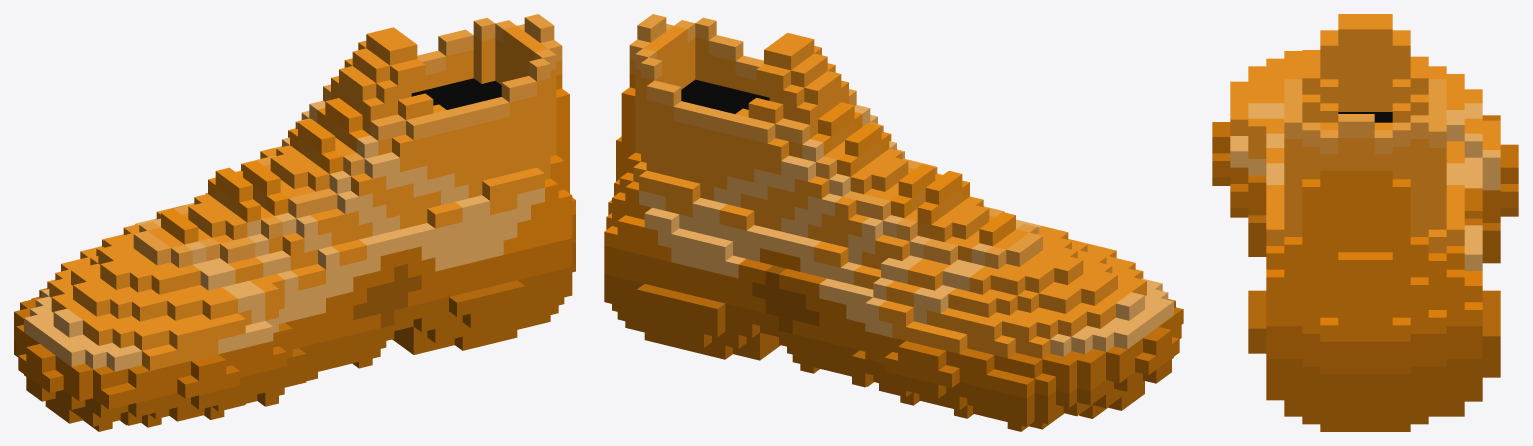
Rendered from Golden Reciever.fbx.
The picture shows the model from 3 angles, left to right: view 1: azimuth 30°, elevation 25°; view 2: azimuth 150°, elevation 25°; view 3: azimuth 270°, elevation 25°; orthographic projection. The views are drawn at different scales.
Parts seen in each view (by area): view 1: Untitled; view 2: Untitled; view 3: Untitled.
Part boxes in pixels (box(x1,y1,x2,y2)): Untitled: box(14, 14, 575, 431); Untitled: box(604, 14, 1183, 431); Untitled: box(1212, 14, 1518, 431).
Bounding box in the file's own units: 390 × 200 × 170.
